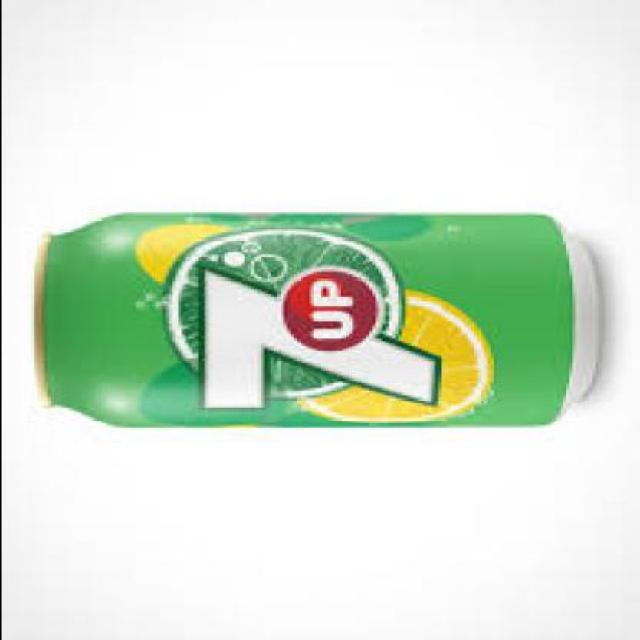METAL: (30, 213, 601, 435)
